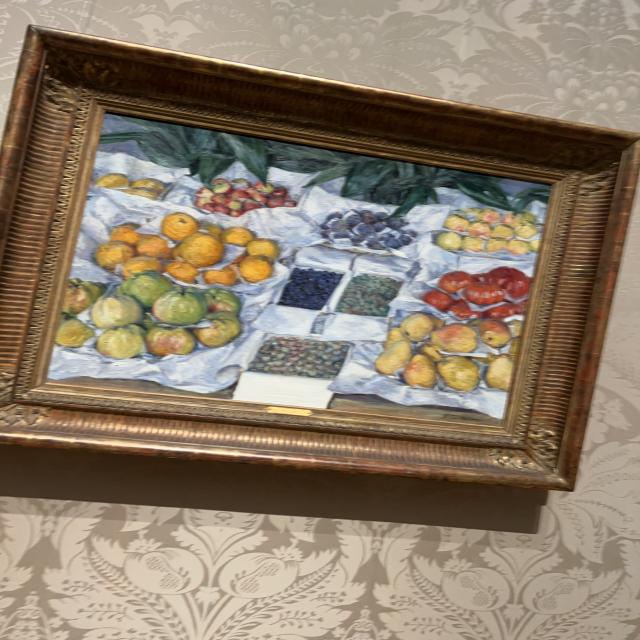fruits: (49, 118, 545, 421)
